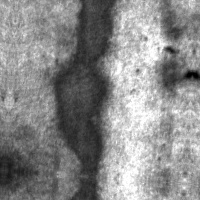patches: (47, 0, 117, 178), (155, 13, 196, 92)
